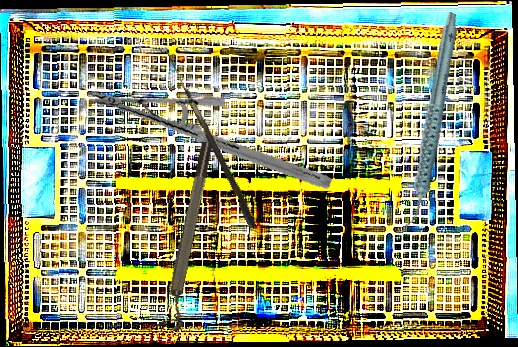Fixation Ring: (155, 140, 225, 333)
Handpiece: (360, 10, 500, 230)
Hook Surgical: (157, 48, 260, 229)
Needle Holder: (87, 56, 334, 224)
